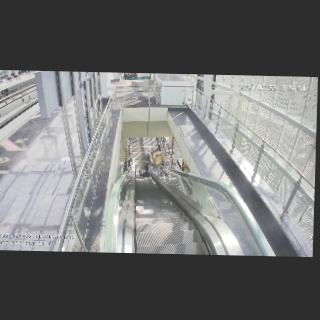anomaly: (138, 165, 152, 177)
